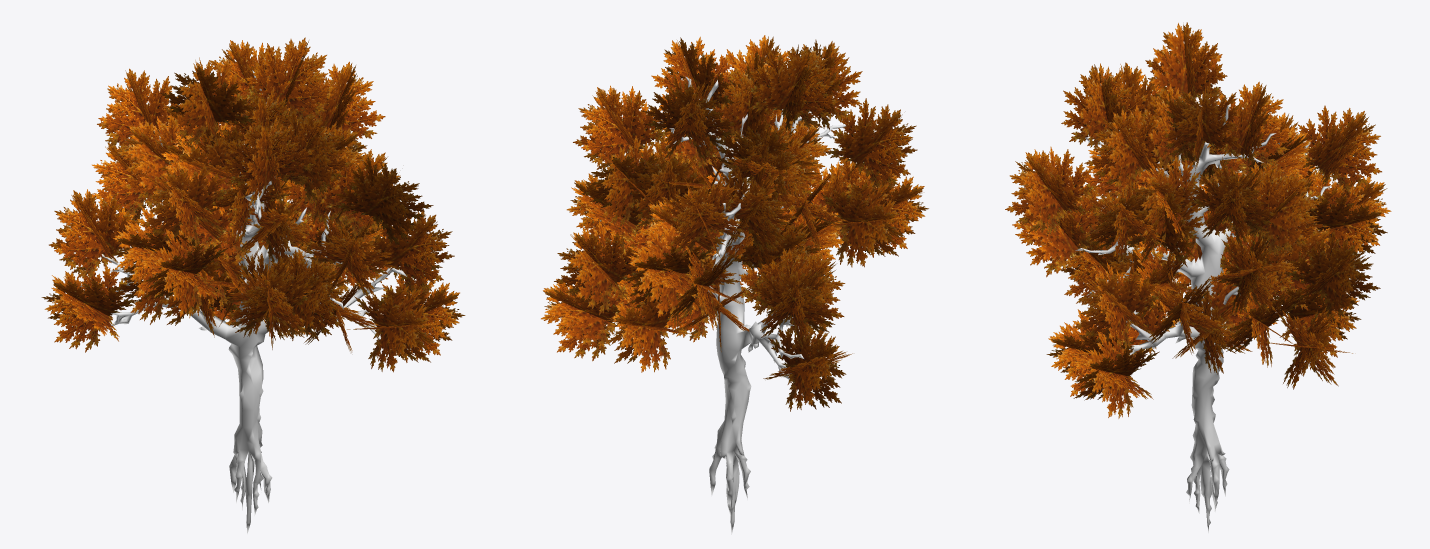
The model's file is scenictree2.fbx.
3 views of the same model, side by side, from view 1: azimuth 30°, elevation 25°; view 2: azimuth 150°, elevation 25°; view 3: azimuth 270°, elevation 25° (orthographic). The views are drawn at different scales.
Parts seen in each view (by area): view 1: Plane, tripo_node_bdb1ff92; view 2: Plane, tripo_node_bdb1ff92; view 3: Plane, tripo_node_bdb1ff92.
Part boxes in pixels (x1,y1,x2,y2): Plane: (41,37,465,372); tripo_node_bdb1ff92: (80,70,406,533); Plane: (541,35,928,411); tripo_node_bdb1ff92: (665,76,849,534); Plane: (1005,22,1391,418); tripo_node_bdb1ff92: (1075,94,1330,532).
Size of the model in its own units: 4988 by 6705 by 5268.
168 materials, 168 textured.
